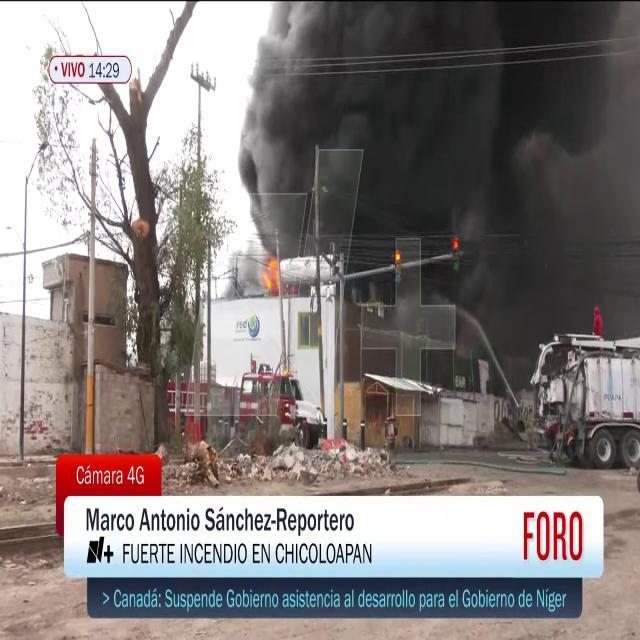Fire: (260, 248, 280, 294)
Smoke: (231, 0, 640, 261)
